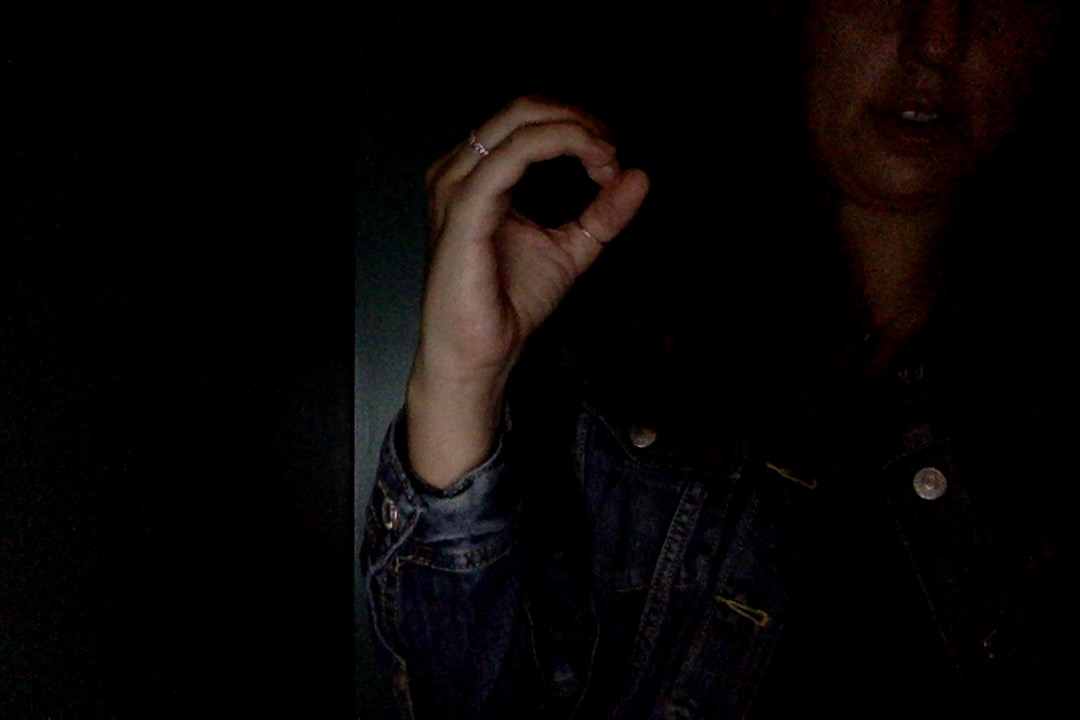o: (386, 77, 662, 487)
